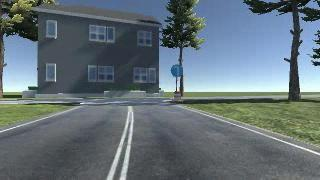turn_left: (170, 64, 183, 77)
